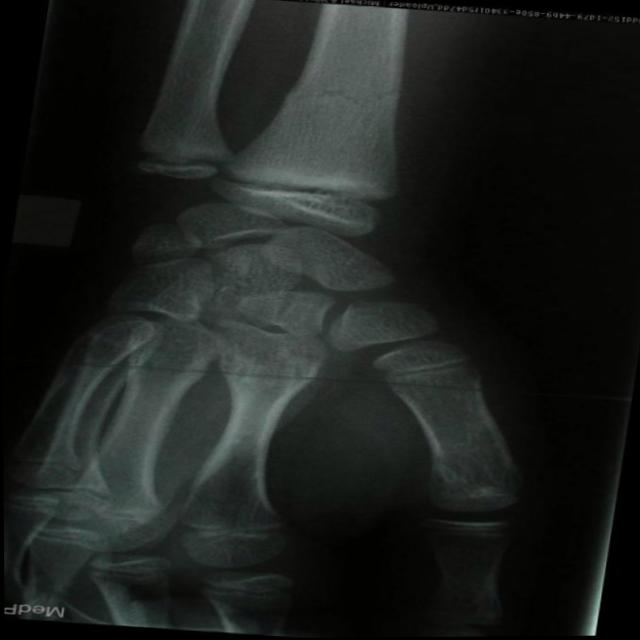Transverse Displaced: (275, 60, 423, 131)
